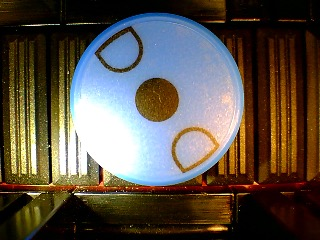BOHOMIPO2: (69, 12, 244, 187)
